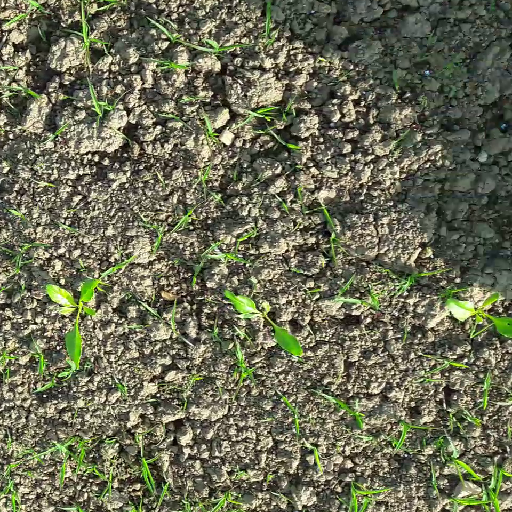sugarbeet: (223, 287, 303, 359), (41, 277, 99, 370), (440, 291, 512, 339)
weed: (1, 1, 512, 511)
